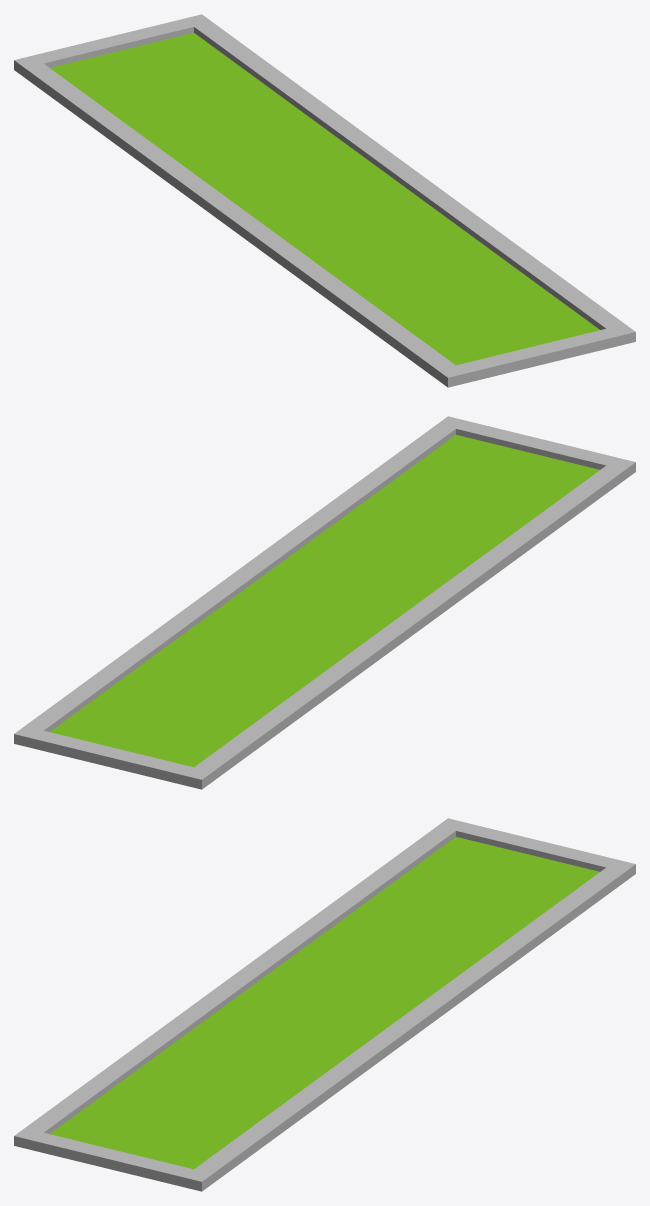
File: grass_02.fbx
The picture shows the model from 3 angles, top to bottom: view 1: azimuth 30°, elevation 25°; view 2: azimuth 150°, elevation 25°; view 3: azimuth 330°, elevation 25°; orthographic projection.
Parts seen in each view (by area): view 1: grass_02; view 2: grass_02; view 3: grass_02.
Part boxes in pixels (x1,y1,x2,y2): grass_02: (14, 14, 635, 387); grass_02: (14, 416, 635, 789); grass_02: (14, 818, 635, 1191).
Bounding box in the file's own units: 2 × 0.1 × 8.
